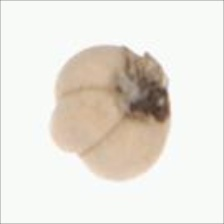L5: (48, 84, 130, 159), (113, 47, 173, 127)
L6: (48, 41, 172, 185)
